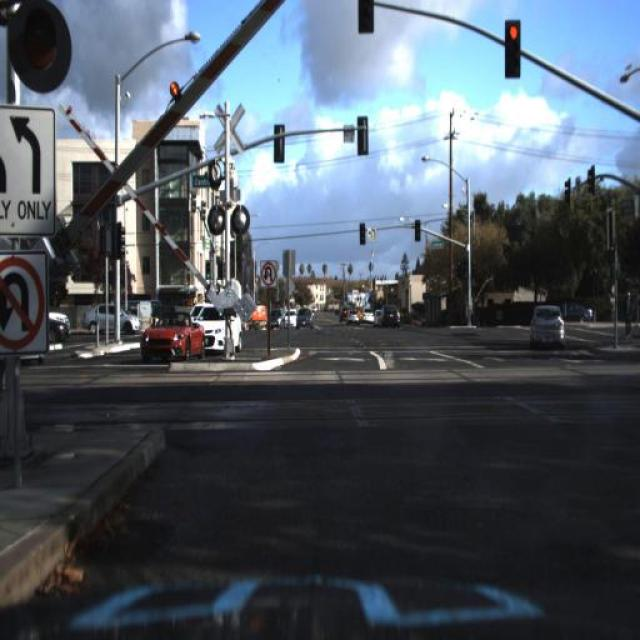car: (142, 306, 206, 360), (529, 290, 576, 362), (76, 302, 142, 342), (202, 305, 248, 354), (547, 289, 595, 330), (378, 293, 403, 336), (36, 316, 70, 346), (44, 320, 68, 356), (263, 306, 285, 332), (46, 310, 74, 330), (292, 304, 312, 332), (334, 298, 352, 328), (281, 305, 297, 336), (265, 307, 284, 329), (348, 301, 359, 337), (335, 298, 349, 324), (362, 306, 372, 335)
trafficLight: (618, 274, 634, 336), (620, 288, 635, 338)
trafficLight-Green: (0, 0, 106, 101), (503, 18, 521, 78), (356, 210, 372, 250), (412, 214, 422, 242)
trafficLight-GreenLeft: (459, 251, 470, 283)
trafficLight-RedLeft: (496, 12, 529, 87)
